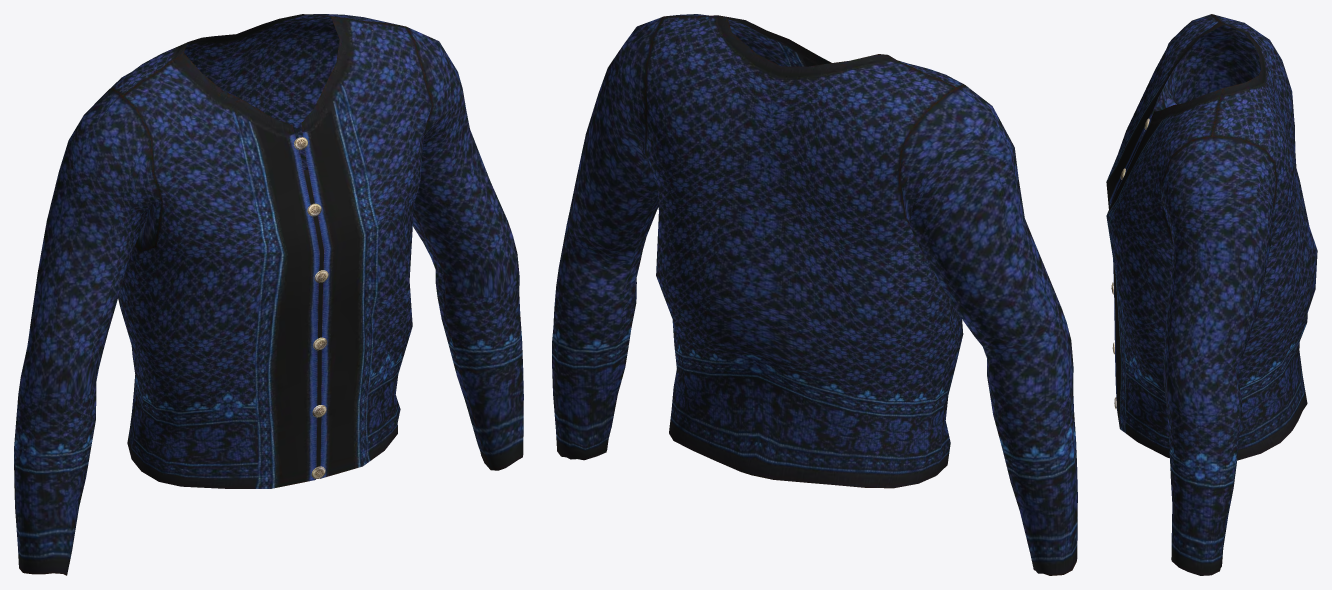
The model's file is mindfront-lusekofta.glb.
The picture shows the model from 3 angles, left to right: view 1: azimuth 30°, elevation 25°; view 2: azimuth 150°, elevation 25°; view 3: azimuth 270°, elevation 25°; orthographic projection. The views are drawn at different scales.
Visible parts, largest first — view 1: Human.mindfront_lusekofta; view 2: Human.mindfront_lusekofta; view 3: Human.mindfront_lusekofta.
Boxes of the visible parts, x1,y1,x2,y2 form: Human.mindfront_lusekofta: (14,14,523,575); Human.mindfront_lusekofta: (552,14,1077,575); Human.mindfront_lusekofta: (1106,14,1317,575).
Bounding box in the file's own units: 0.7225 × 0.6524 × 0.3001.
Materials: 1 (1 with a texture image).
